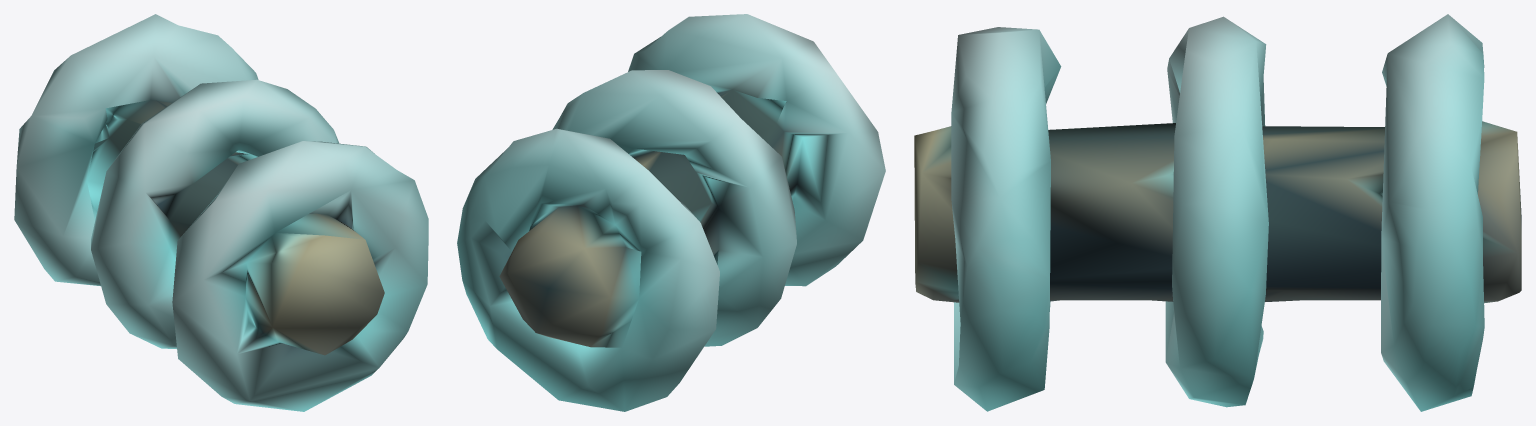
The model's file is hero_rifle_coil.glb.
3 views of the same model, side by side, from view 1: azimuth 30°, elevation 25°; view 2: azimuth 150°, elevation 25°; view 3: azimuth 270°, elevation 25° (orthographic). The views are drawn at different scales.
Parts seen in each view (by area): view 1: geometry_0; view 2: geometry_0; view 3: geometry_0.
Part boxes in pixels (bbox=[...]): geometry_0: bbox=[14, 14, 428, 411]; geometry_0: bbox=[457, 14, 885, 411]; geometry_0: bbox=[914, 14, 1521, 411].
Bounding box in the file's own units: 0.0939 × 0.094 × 0.1399.
